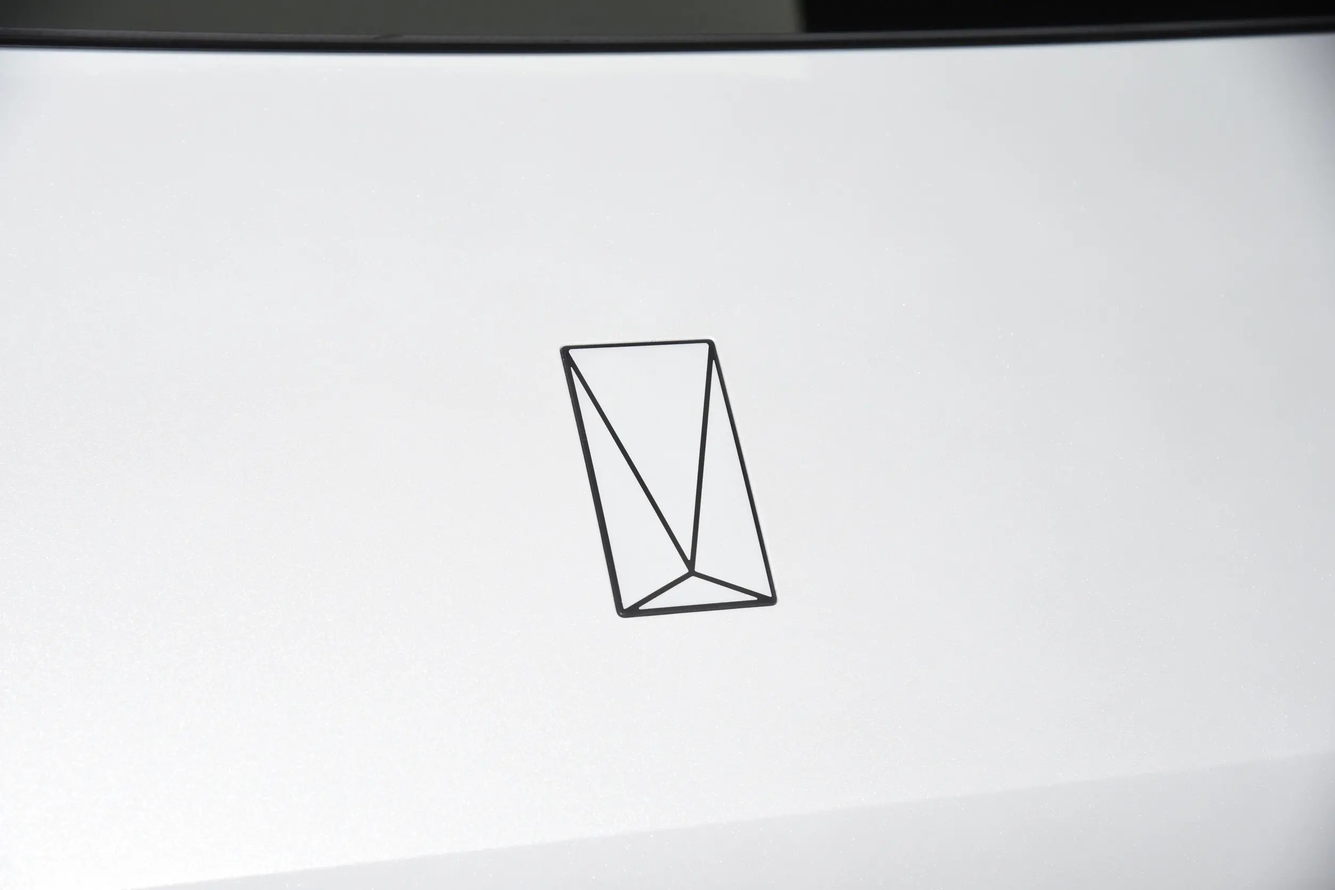AVATR: (560, 339, 777, 617)
